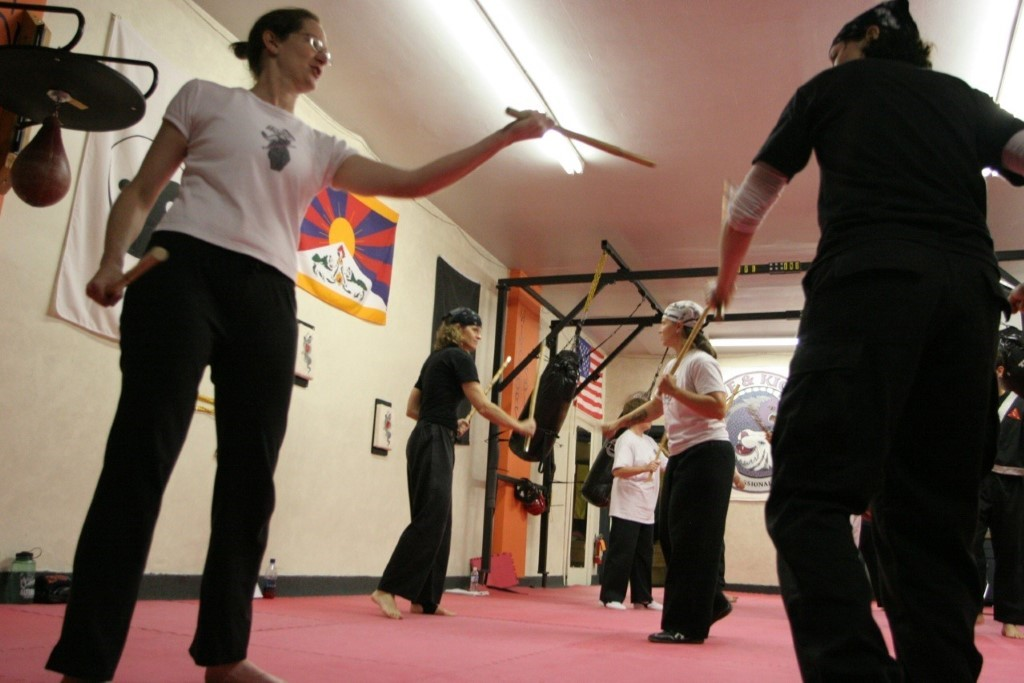baston_e: (510, 108, 647, 167), (667, 298, 715, 377), (464, 357, 505, 427), (714, 185, 734, 313), (524, 343, 546, 445), (107, 255, 154, 296), (651, 430, 665, 471)
baston_v: (147, 242, 169, 266), (712, 307, 728, 325), (647, 156, 661, 170), (502, 104, 515, 117), (503, 353, 514, 364), (521, 444, 530, 454), (735, 380, 744, 390), (540, 335, 548, 342), (646, 470, 654, 477)
